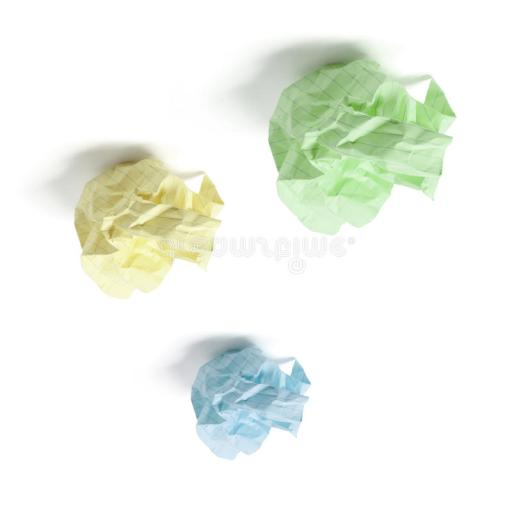Kertas: (267, 56, 457, 235), (72, 154, 226, 301), (189, 342, 314, 461)
